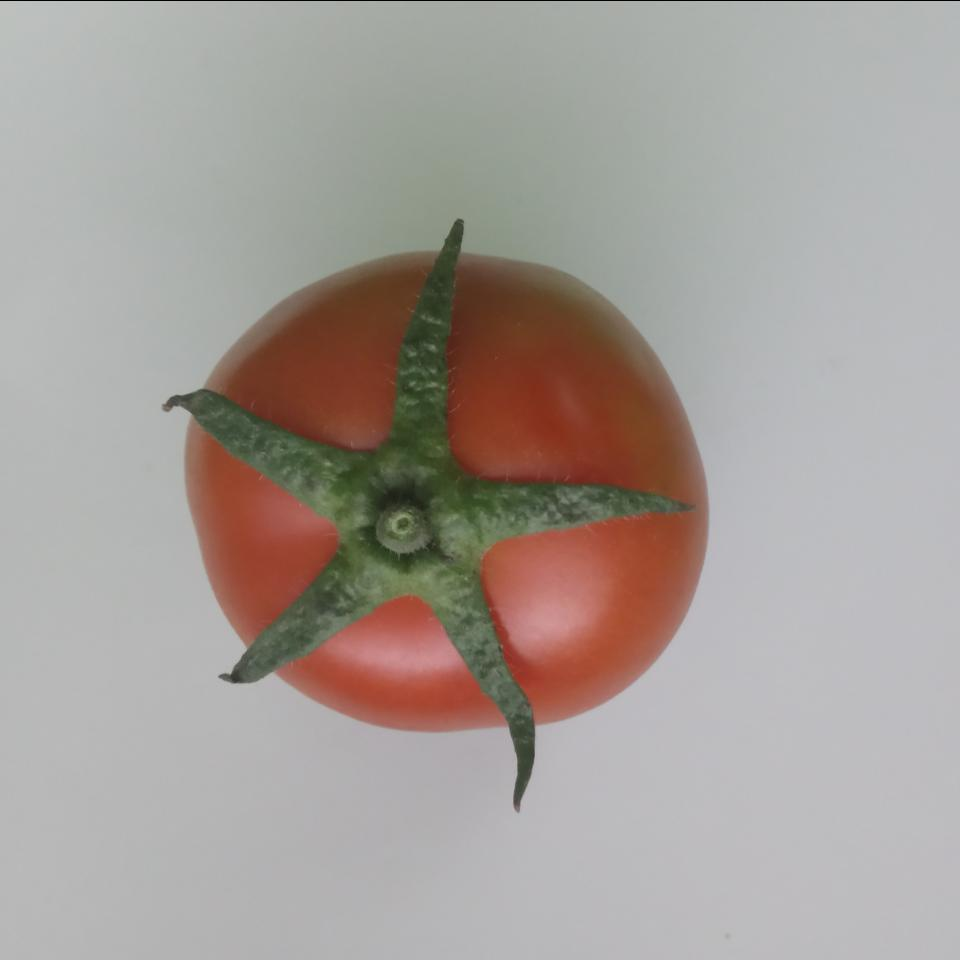Healthy: (175, 238, 717, 748)
